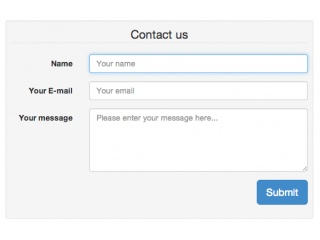_form_: (1, 1, 320, 240)
button: (255, 178, 310, 206)
field: (87, 108, 309, 174), (87, 52, 309, 75), (87, 80, 310, 100)
field_with_label: (19, 107, 311, 175), (51, 50, 310, 77), (26, 79, 311, 101)
